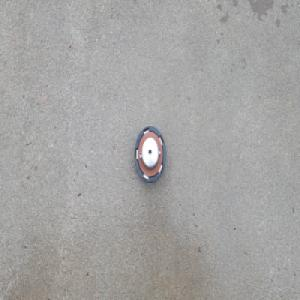FuelCap: (133, 124, 166, 185)
